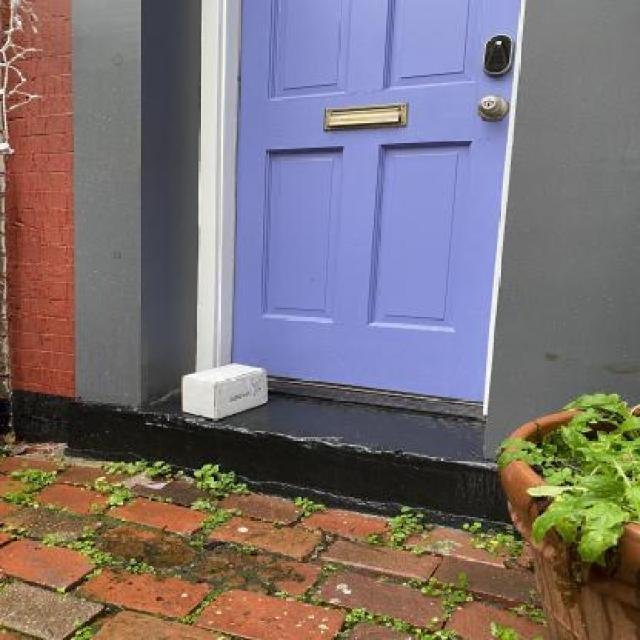obstacle: (174, 358, 272, 426)
